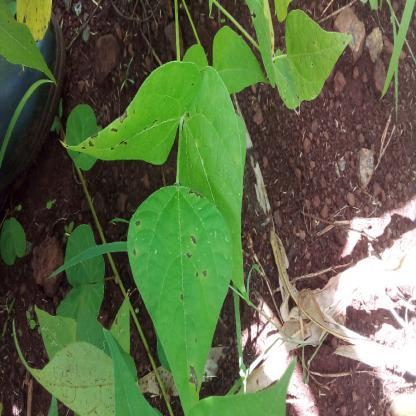Beans_Angular_LeafSpot: (129, 186, 232, 416), (58, 64, 202, 165), (244, 0, 346, 106)
